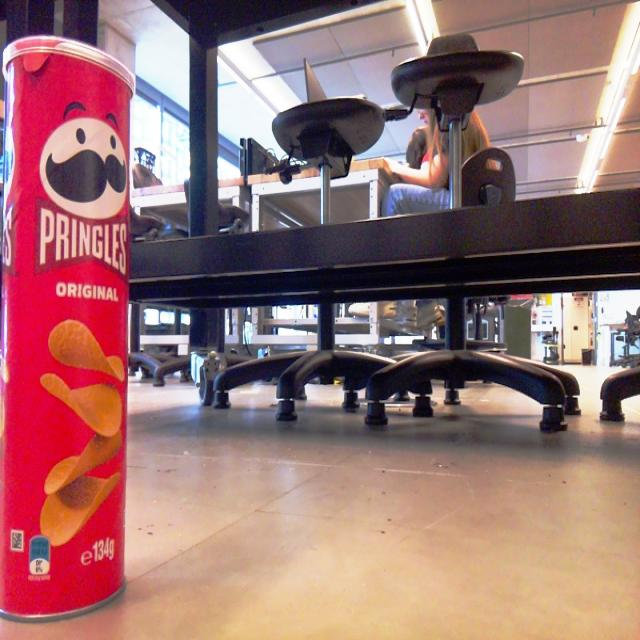redpringles: (0, 28, 146, 638)
